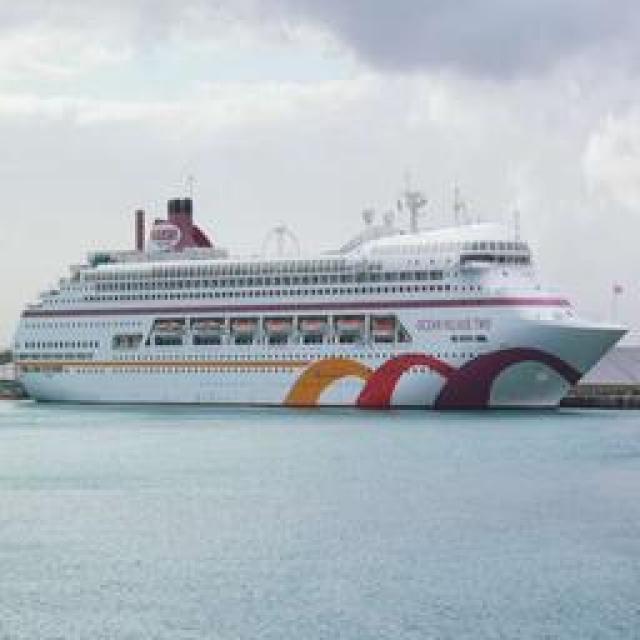ship2: (12, 184, 629, 410)
